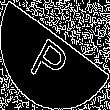P_NE: (31, 24, 79, 86)
